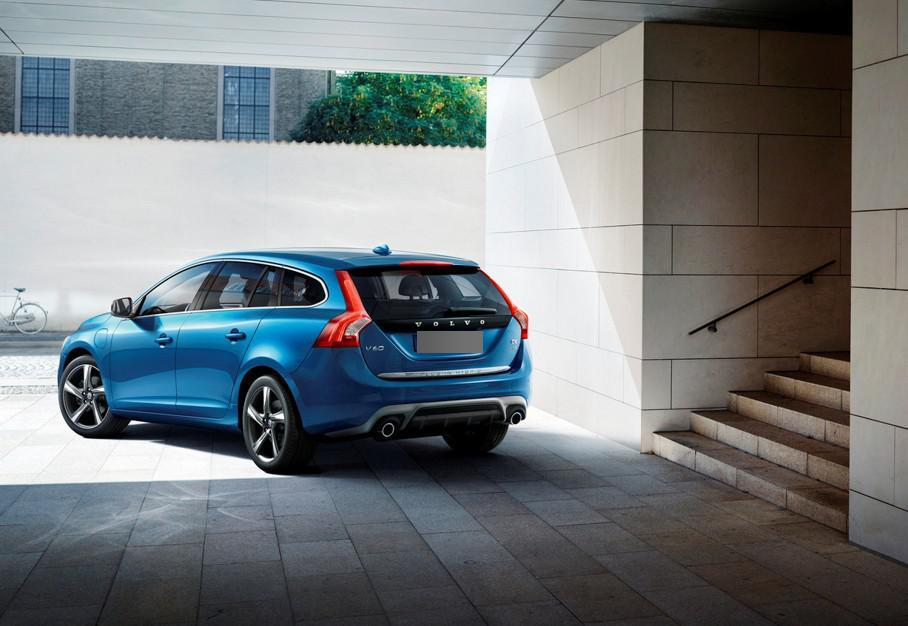Wagon: (57, 250, 531, 471)
